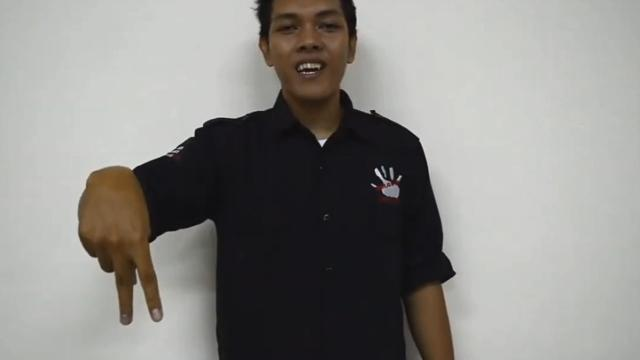P: (78, 165, 170, 331)
